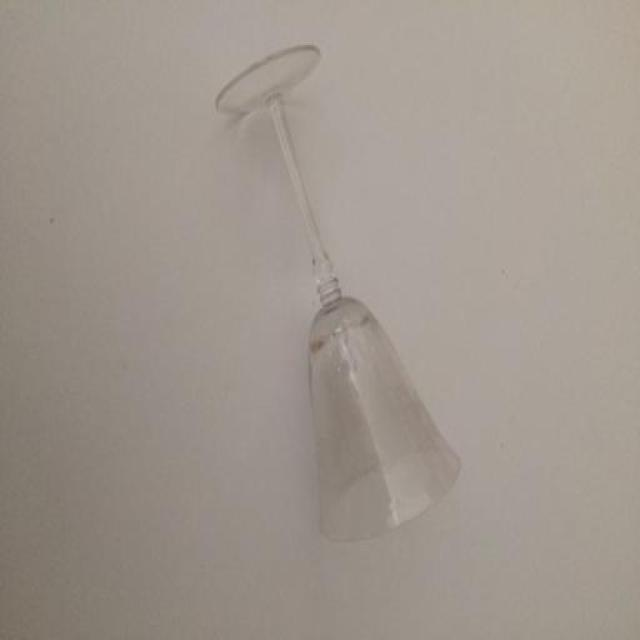glass: (212, 45, 464, 547)
